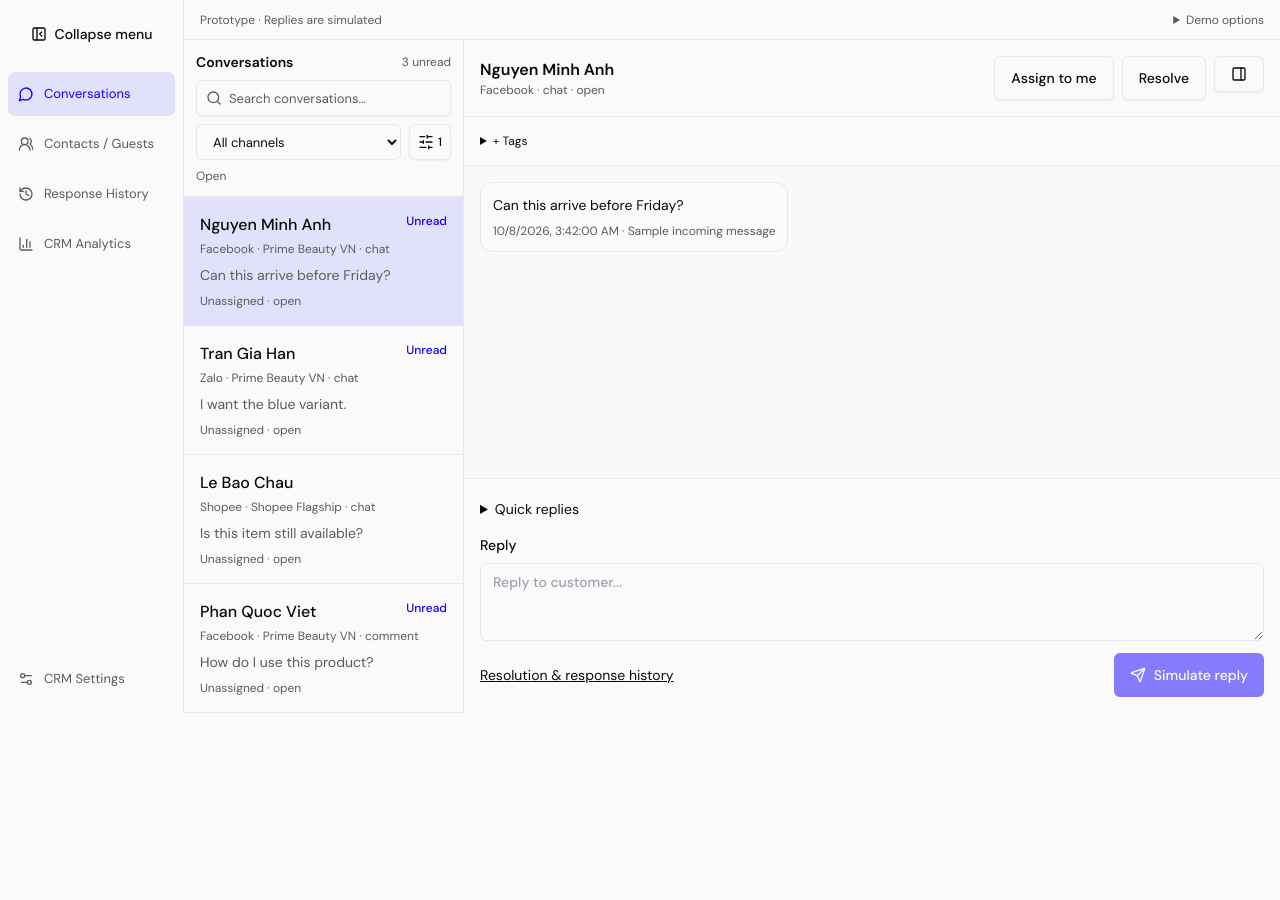
Prime CRM page content › changes only the body when switching modes and preserves an unsent reply
Click the heading "Demo options" at (1225, 20), box x1=1186 y1=12 x2=1264 y2=28
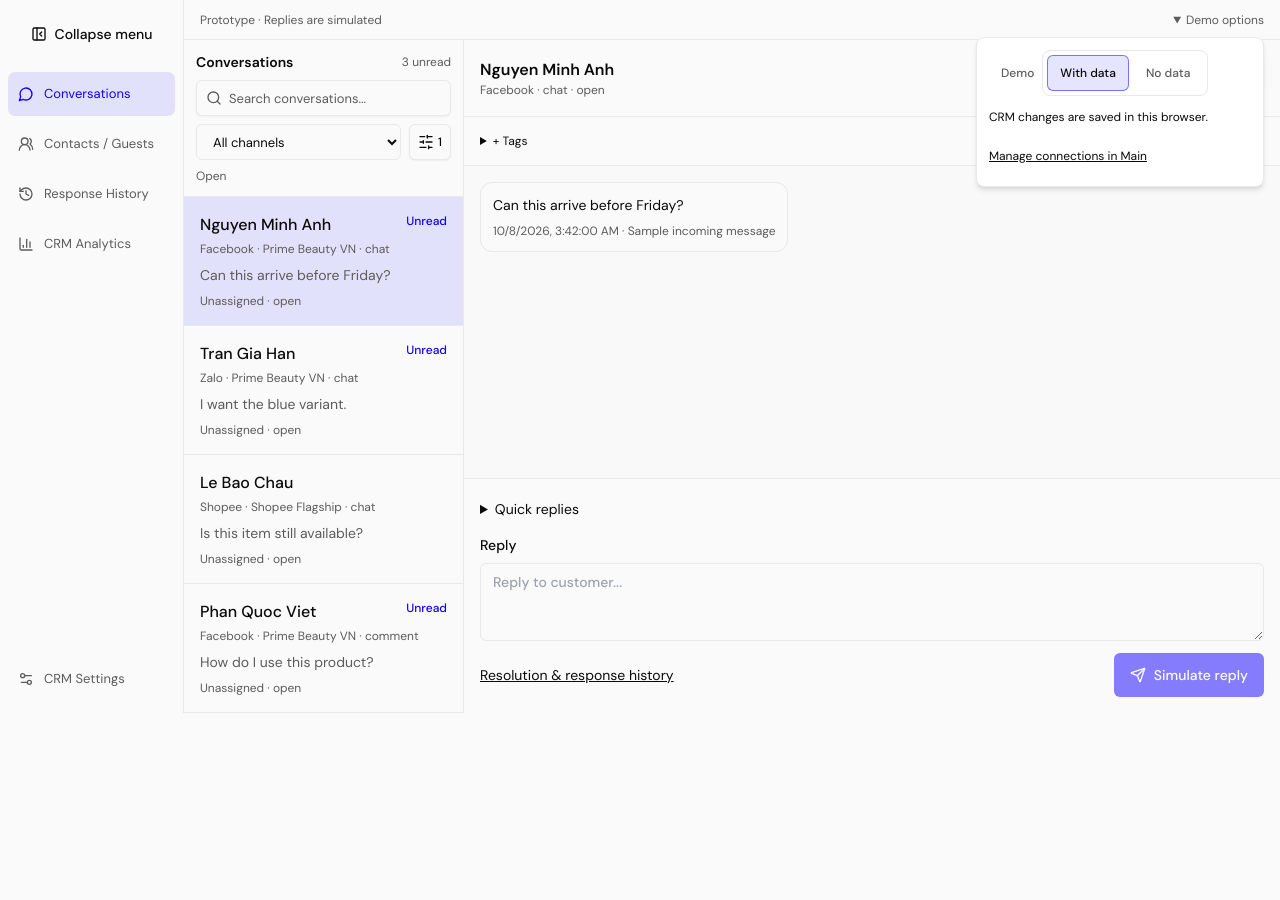
Type "Keep this draft" into the text box with placeholder "Reply to customer..." at (872, 602), box x1=480 y1=563 x2=1264 y2=641
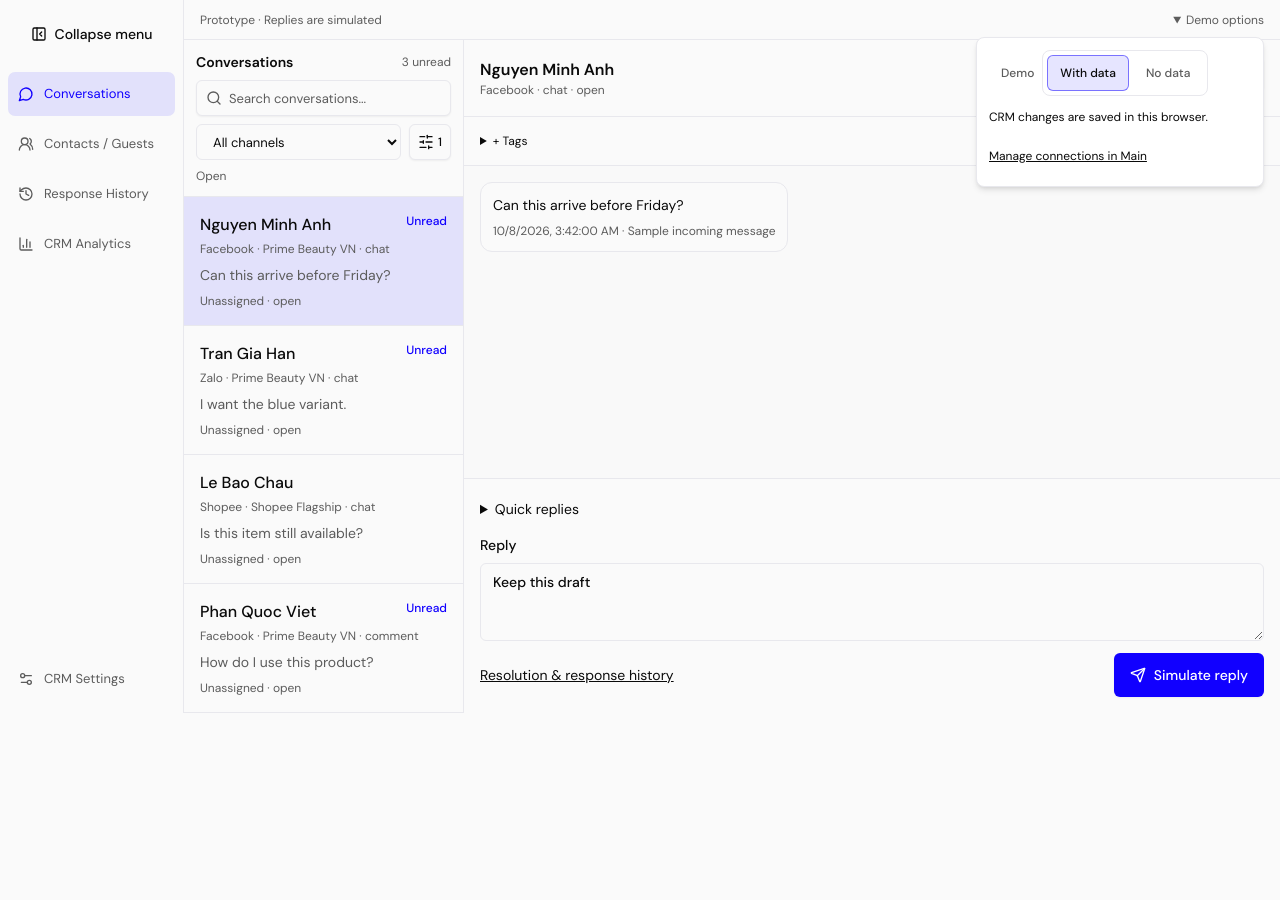
Click the button "No data" at (1168, 72), box x1=1133 y1=54 x2=1203 y2=90
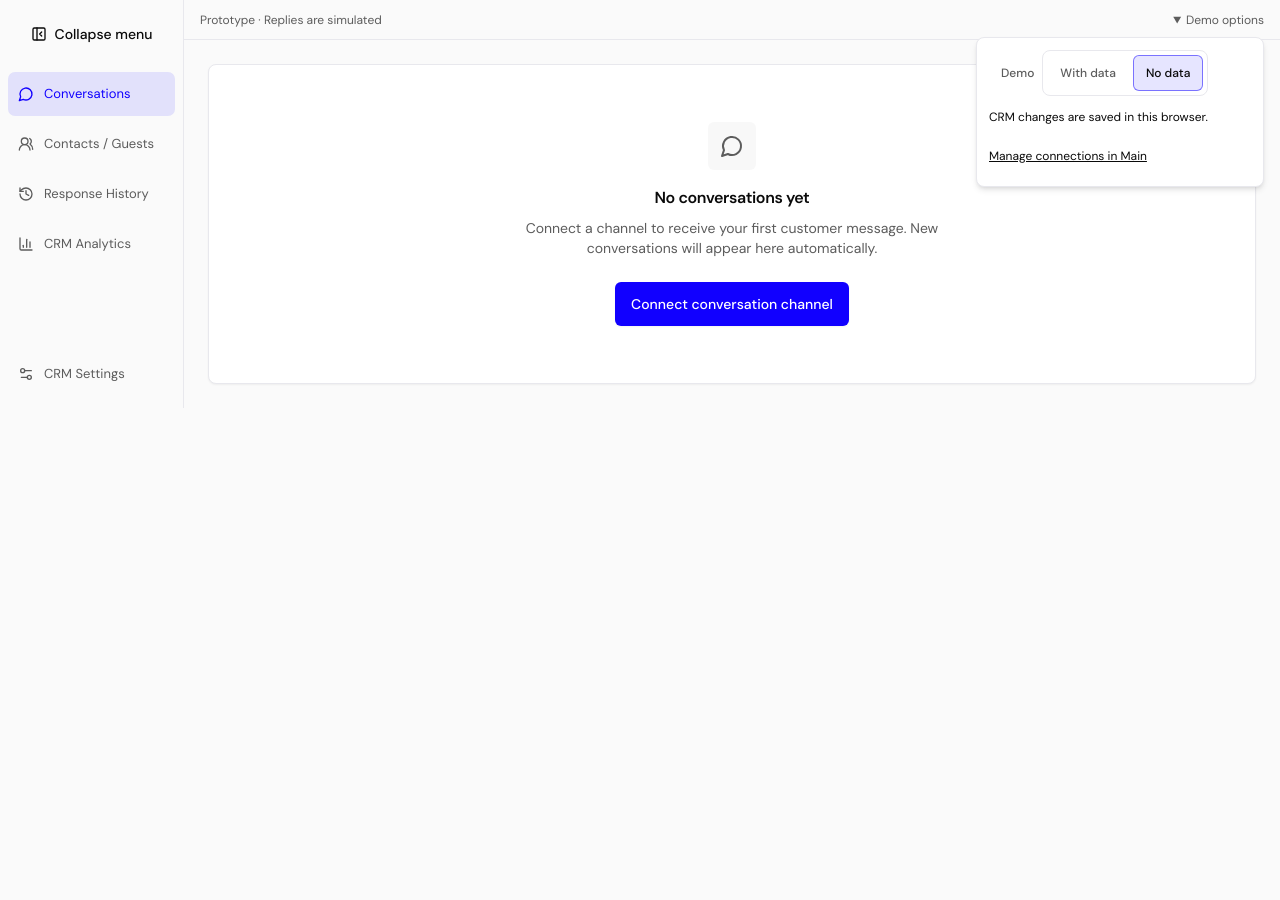
Expected: the heading "No conversations yet" is shown, x1=654 y1=186 x2=810 y2=210
Click the button "With data" at (1088, 72), box x1=1047 y1=54 x2=1129 y2=90
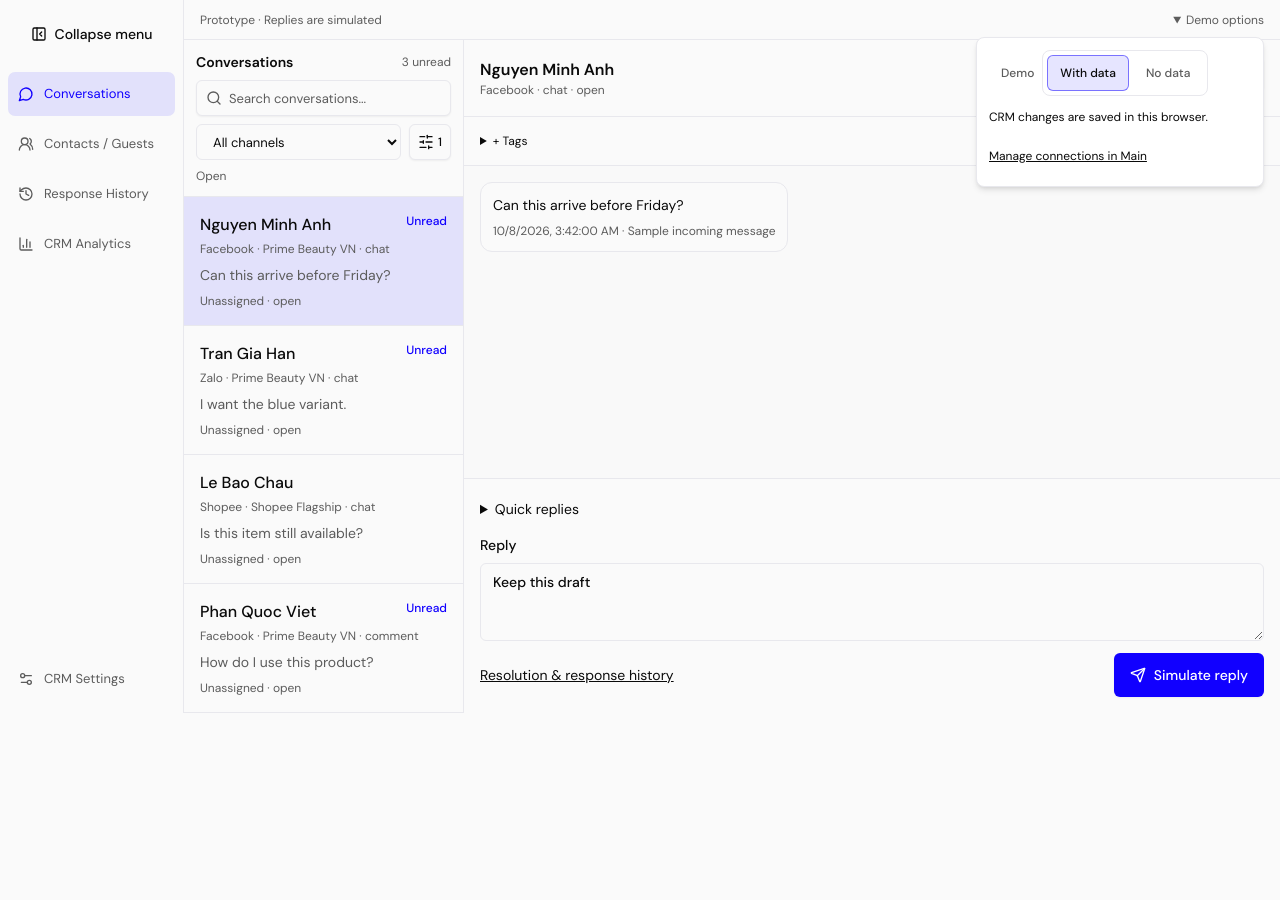
Expected: the element with test id "inbox-no-data" is gone
Expected: the text box with placeholder "Reply to customer..." holds "Keep this draft", x1=480 y1=563 x2=1264 y2=641
Click the button "No data" at (1168, 72), box x1=1133 y1=54 x2=1203 y2=90
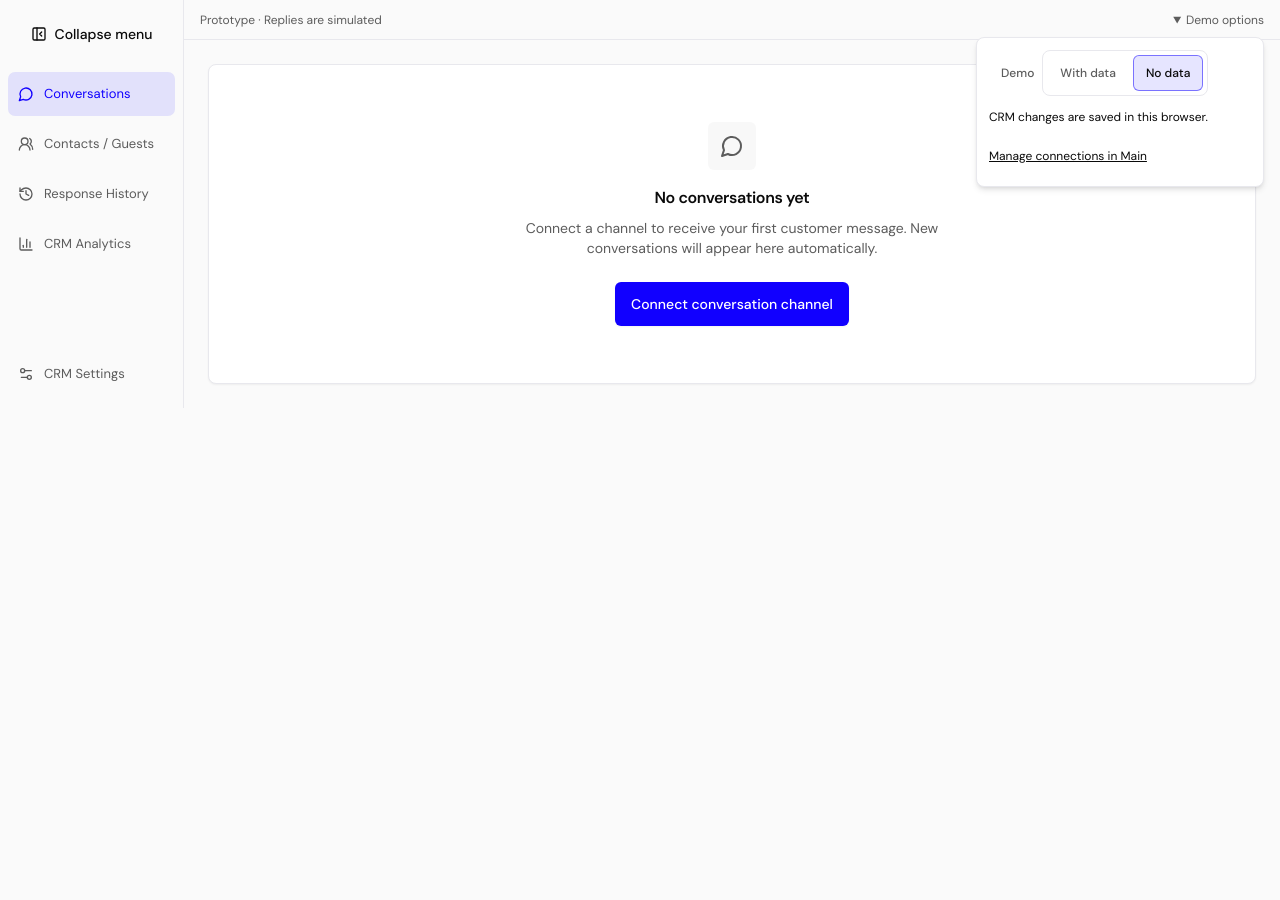
Expected: the heading "No conversations yet" is shown, x1=654 y1=186 x2=810 y2=210
Click the button "With data" at (1088, 72), box x1=1047 y1=54 x2=1129 y2=90
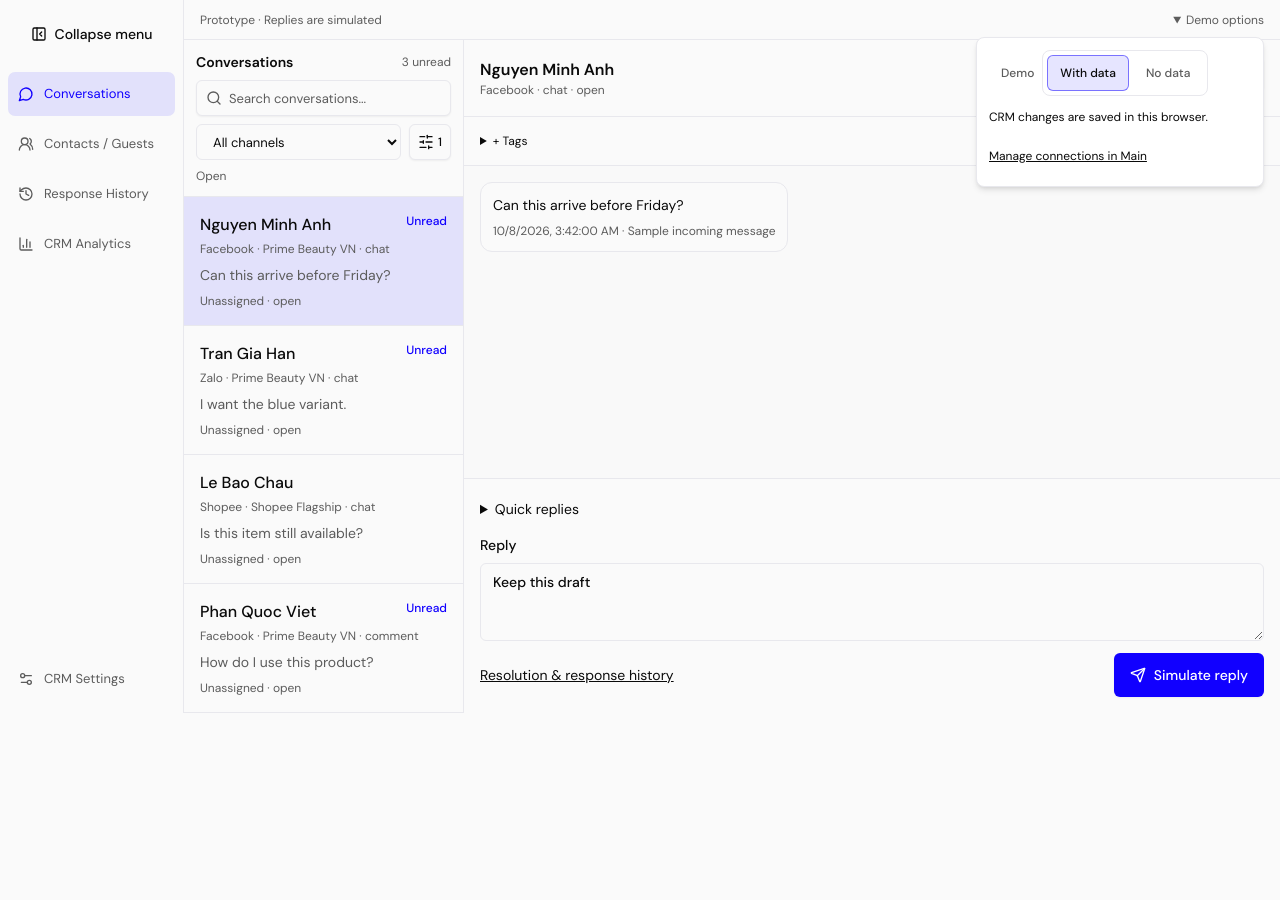
Expected: the element with test id "inbox-no-data" is gone
Expected: the text box with placeholder "Reply to customer..." holds "Keep this draft", x1=480 y1=563 x2=1264 y2=641
